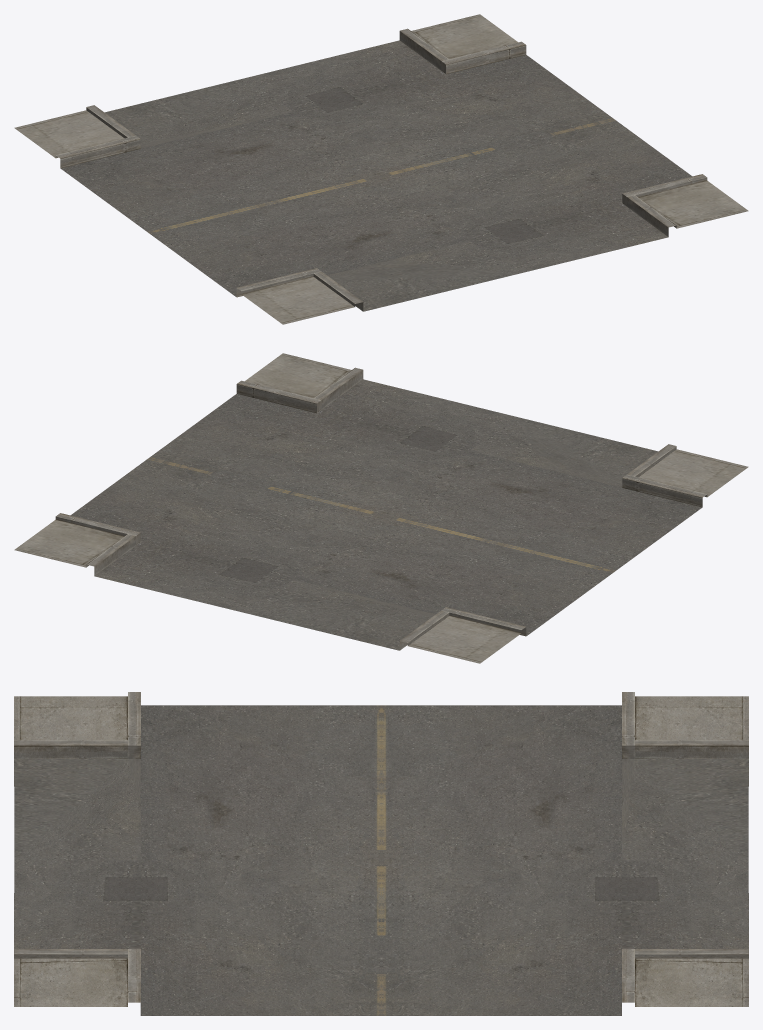
File: road_cross.glb
3 views of the same model, one above another, from view 1: azimuth 30°, elevation 25°; view 2: azimuth 150°, elevation 25°; view 3: azimuth 270°, elevation 25° (orthographic). The views are drawn at different scales.
Parts seen in each view (by area): view 1: cross; view 2: cross; view 3: cross.
Part boxes in pixels (x1,y1,x2,y2): cross: (14, 14, 748, 324); cross: (14, 353, 748, 663); cross: (14, 692, 748, 1015).
Bounding box in the file's own units: 10 × 0.2 × 10.
Materials: 1 (1 with a texture image).
